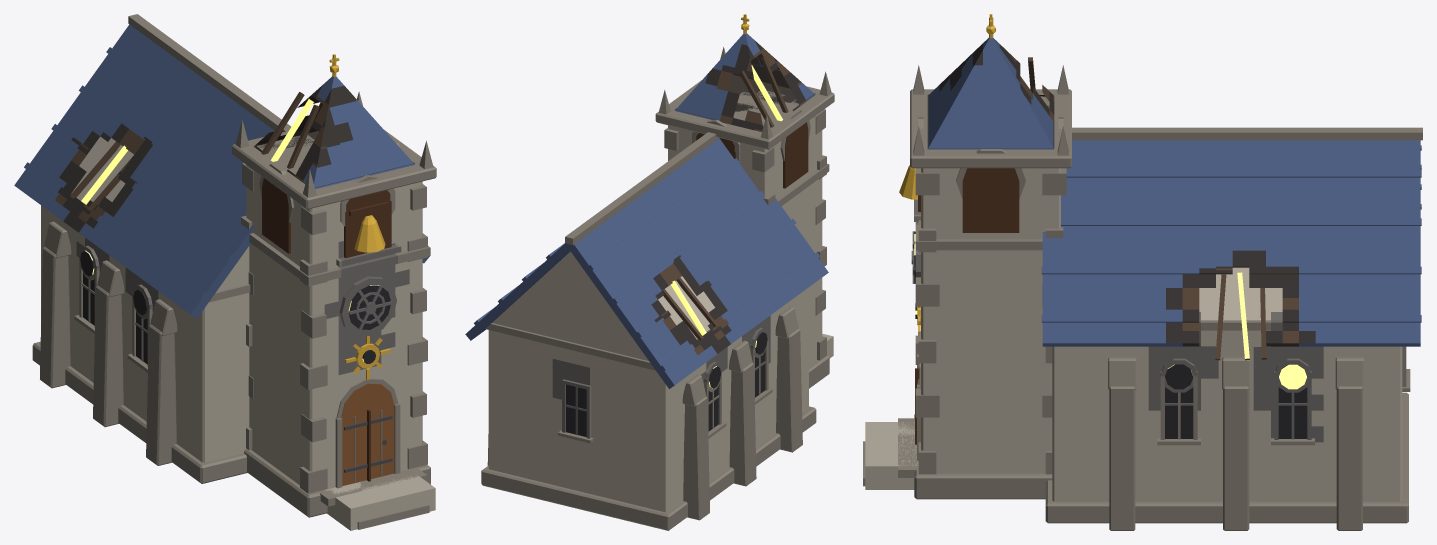
The model's file is Kapelle_Beschaedigt.fbx.
The picture shows the model from 3 angles, left to right: view 1: azimuth 30°, elevation 25°; view 2: azimuth 150°, elevation 25°; view 3: azimuth 270°, elevation 25°; orthographic projection. The views are drawn at different scales.
Visible parts, largest first — view 1: Kapelle_Beschaedigt; view 2: Kapelle_Beschaedigt; view 3: Kapelle_Beschaedigt.
Boxes of the visible parts, x1,y1,x2,y2 form: Kapelle_Beschaedigt: (14, 14, 436, 530); Kapelle_Beschaedigt: (465, 14, 834, 530); Kapelle_Beschaedigt: (863, 14, 1422, 530).
Bounding box in the file's own units: 7.1 × 11.43 × 12.79.
